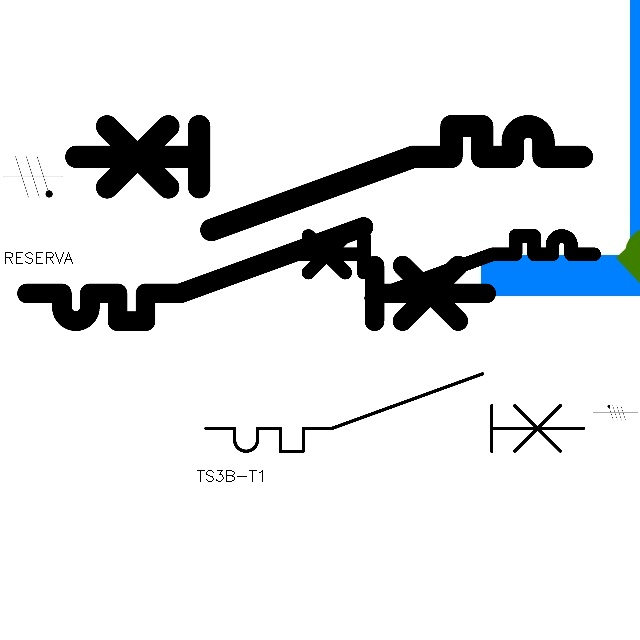interruptor_termomagnetico: (63, 113, 595, 243), (15, 215, 498, 333), (196, 364, 593, 461), (282, 228, 602, 306)
